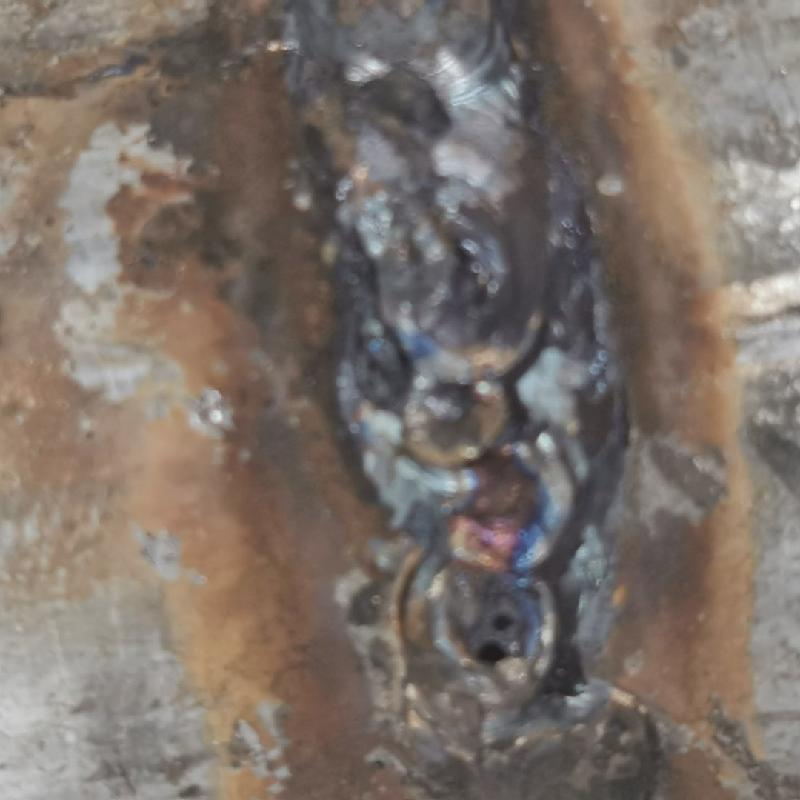Surface_pores: (455, 601, 534, 670)
crater: (339, 190, 591, 702)
wrong_size: (283, 8, 543, 162)
